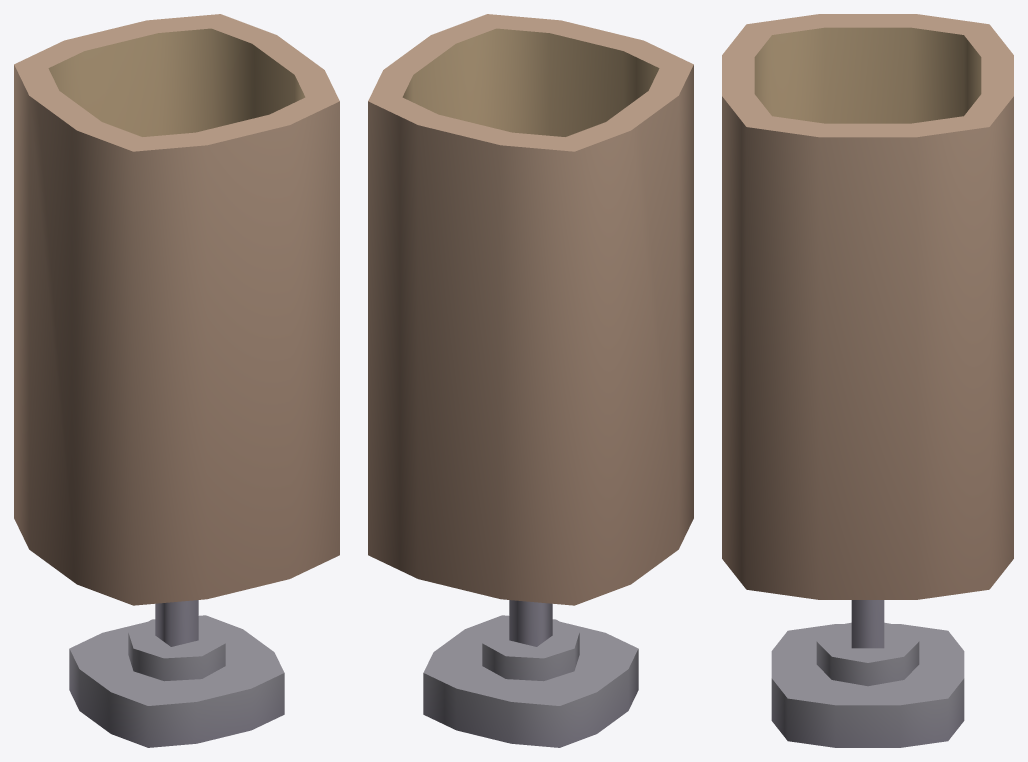
File: lamp-long-table.glb
3 views of the same model, side by side, from view 1: azimuth 30°, elevation 25°; view 2: azimuth 150°, elevation 25°; view 3: azimuth 270°, elevation 25° (orthographic).
Parts seen in each view (by area): view 1: lamp-long-table; view 2: lamp-long-table; view 3: lamp-long-table.
Boxes of the visible parts, x1,y1,x2,y2 form: lamp-long-table: (14,14,339,747); lamp-long-table: (368,14,693,747); lamp-long-table: (722,14,1013,747).
Size of the model in its own units: 0.225 by 0.5375 by 0.225.
